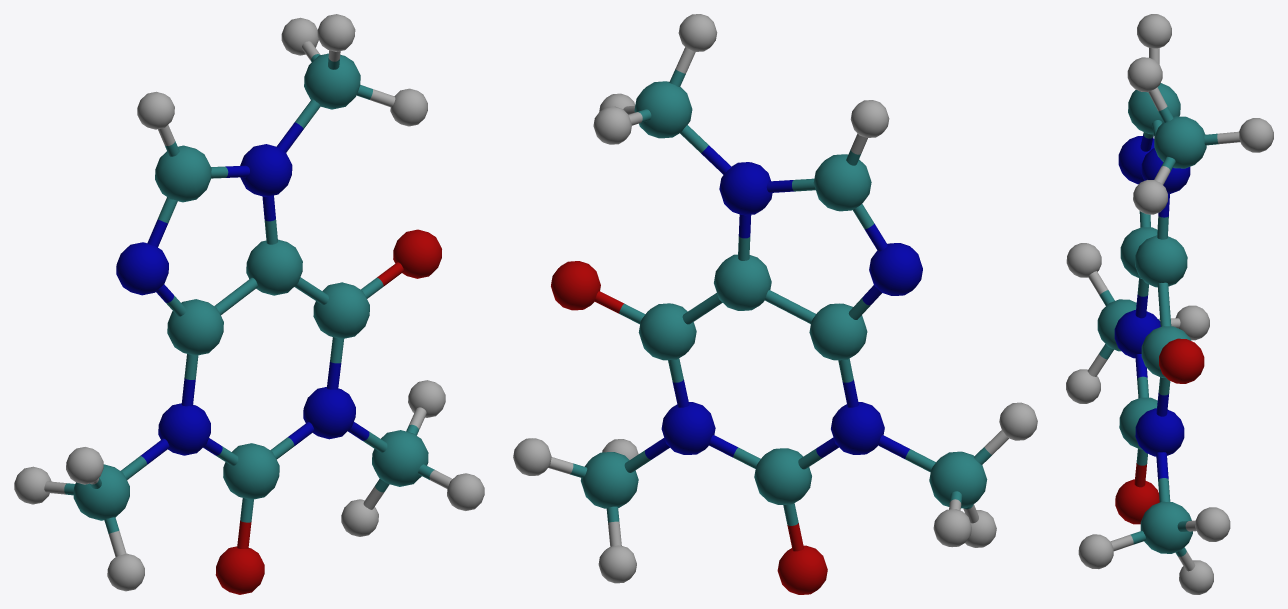
File: caffeine.obj
3 renders of one model, left to right at view 1: azimuth 30°, elevation 25°; view 2: azimuth 150°, elevation 25°; view 3: azimuth 270°, elevation 25°, orthographic. The views are drawn at different scales.
Visible parts, largest first — view 1: vmd_mol0_rep0; view 2: vmd_mol0_rep0; view 3: vmd_mol0_rep0.
Part boxes in pixels (x1=…): vmd_mol0_rep0: x1=14, y1=14, x2=484, y2=594; vmd_mol0_rep0: x1=513, y1=14, x2=1037, y2=594; vmd_mol0_rep0: x1=1066, y1=14, x2=1273, y2=594.
Size of the model in its own units: 1.32 by 1.57 by 0.5785.
